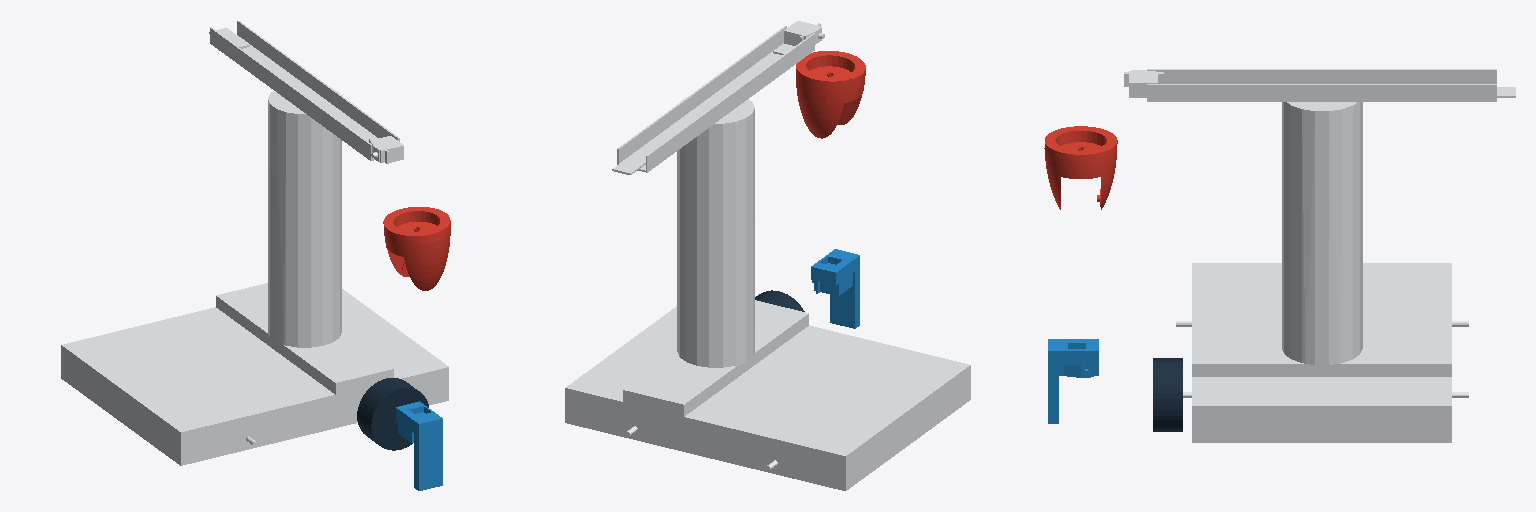
URDF robot description (ardop_description_02):
<?xml version="1.0" encoding="UTF-8"?>
<robot
	name="ardop_description_02">
	<link name="odom" />

	<link
		name="base_link">
		<inertial>
			<origin
				xyz="-0.05669211 -0.00059544 0.13127776"
				rpy="0 0 0" />
			<mass
				value="6" />
			<inertia
				ixx="0.000324"
				ixy="0.000000"
				ixz="-0.000054"
				iyy="0.000398"
				iyz="-0.018212"
				izz="0.000293" />
		</inertial>
		<visual>
			<origin
				xyz="0 0 0"
				rpy="0 0 0" />
			<geometry>
				<mesh
					filename="package://ardop_description_02/meshes/base_link.STL" />
			</geometry>
			<material
				name="cream">
				<color
					rgba="0.93 0.94 0.95 1" />
			</material>
		</visual>
		<collision>
			<origin
				xyz="0 0 0"
				rpy="0 0 0" />
			<geometry>
				<mesh
					filename="package://ardop_description_02/meshes/base_link.STL" />
			</geometry>
		</collision>
	</link>

	<joint
		name="odom_joint"
		type="fixed">
		<parent
			link="odom" />
		<child
			link="base_link" />
	</joint>

	<link
		name="wheel_front_left_link">
		<inertial>
			<origin
				xyz="0 0.02096815 0"
				rpy="0 0 0" />
			<mass
				value="0.4" />
			<inertia
				ixx="0"
				ixy="0"
				ixz="0"
				iyy="0"
				iyz="0"
				izz="0" />
		</inertial>
		<visual>
			<origin
				xyz="0 0 0"
				rpy="0 0 0" />
			<geometry>
				<mesh
					filename="package://ardop_description_02/meshes/wheel_front_left_link.STL" />
			</geometry>
			<material
				name="dark_blue">
				<color
					rgba="0.17 0.24 0.31 1" />
			</material>
		</visual>
		<collision>
			<origin
				xyz="0 0 0"
				rpy="0 0 0" />
			<geometry>
				<mesh
					filename="package://ardop_description_02/meshes/wheel_front_left_link.STL" />
			</geometry>
		</collision>
	</link>

	<joint
		name="wheel_front_left_joint"
		type="continuous">
		<origin
			xyz="0.03 0.1895 0.05"
			rpy="0 0 0" />
		<parent
			link="base_link" />
		<child
			link="wheel_front_left_link" />
		<axis
			xyz="0 1 0" />
		<limit
			effort="100"
			velocity="100" />
		<safety_controller
			k_velocity="10" />
	</joint>

	<link
		name="wheel_front_right_link">
		<inertial>
			<origin
				xyz="0 -0.02096815 0"
				rpy="0 0 0" />
			<mass
				value="0.4" />
			<inertia
				ixx="0"
				ixy="0"
				ixz="0"
				iyy="0"
				iyz="0"
				izz="0" />
		</inertial>
		<visual>
			<origin
				xyz="0 0 0"
				rpy="0 0 0" />
			<geometry>
				<mesh
					filename="package://ardop_description_02/meshes/wheel_front_right_link.STL" />
			</geometry>
			<material
				name="dark_blue">
				<color
					rgba="0.17 0.24 0.31 1" />
			</material>
		</visual>
		<collision>
			<origin
				xyz="0 0 0"
				rpy="0 0 0" />
			<geometry>
				<mesh
					filename="package://ardop_description_02/meshes/wheel_front_right_link.STL" />
			</geometry>
		</collision>
	</link>

	<joint
		name="wheel_front_right_joint"
		type="continuous">
		<origin
			xyz="0.03 -0.1895 0.05"
			rpy="0 0 0" />
		<parent
			link="base_link" />
		<child
			link="wheel_front_right_link" />
		<axis
			xyz="0 1 0" />
		<limit
			effort="100"
			velocity="100" />
		<safety_controller
			k_velocity="10" />
	</joint>

	<link
		name="wheel_back_left_link">
		<inertial>
			<origin
				xyz="0 0.02096815 0"
				rpy="0 0 0" />
			<mass
				value="0.4" />
			<inertia
				ixx="0"
				ixy="0"
				ixz="0"
				iyy="0"
				iyz="0"
				izz="0" />
		</inertial>
		<visual>
			<origin
				xyz="0 0 0"
				rpy="0 0 0" />
			<geometry>
				<mesh
					filename="package://ardop_description_02/meshes/wheel_back_left_link.STL" />
			</geometry>
			<material
				name="dark_blue">
				<color
					rgba="0.17 0.24 0.31 1" />
			</material>
		</visual>
		<collision>
			<origin
				xyz="0 0 0"
				rpy="0 0 0" />
			<geometry>
				<mesh
					filename="package://ardop_description_02/meshes/wheel_back_left_link.STL" />
			</geometry>
		</collision>
	</link>

	<joint
		name="wheel_back_left_joint"
		type="continuous">
		<origin
			xyz="-0.2 0.1895 0.05"
			rpy="0 0 0" />
		<parent
			link="base_link" />
		<child
			link="wheel_back_left_link" />
		<axis
			xyz="0 1 0" />
		<limit
			effort="100"
			velocity="100" />
		<safety_controller
			k_velocity="10" />
	</joint>

	<link
		name="wheel_back_right_link">
		<inertial>
			<origin
				xyz="0 -0.02096815 0"
				rpy="0 0 0" />
			<mass
				value="0.4" />
			<inertia
				ixx="0"
				ixy="0"
				ixz="0"
				iyy="0"
				iyz="0"
				izz="0" />
		</inertial>
		<visual>
			<origin
				xyz="0 0 0"
				rpy="0 0 0" />
			<geometry>
				<mesh
					filename="package://ardop_description_02/meshes/wheel_back_right_link.STL" />
			</geometry>
			<material
				name="dark_blue">
				<color
					rgba="0.17 0.24 0.31 1" />
			</material>
		</visual>
		<collision>
			<origin
				xyz="0 0 0"
				rpy="0 0 0" />
			<geometry>
				<mesh
					filename="package://ardop_description_02/meshes/wheel_back_right_link.STL" />
			</geometry>
		</collision>
	</link>

	<joint
		name="wheel_back_right_joint"
		type="continuous">
		<origin
			xyz="-0.2 -0.1895 0.05"
			rpy="0 0 0" />
		<parent
			link="base_link" />
		<child
			link="wheel_back_right_link" />
		<axis
			xyz="0 1 0" />
		<limit
			effort="100"
			velocity="100" />
		<safety_controller
			k_velocity="10" />
	</joint>

	<link
		name="shoulder_1_link">
		<inertial>
			<origin
				xyz="0.02786329 -0.03558158 0.00339449" 
				rpy="0 0 0" />
			<mass
				value="0.239718" />
			<inertia
				ixx="0.0"
				ixy="0.0"
				ixz="0.0"
				iyy="0.0"
				iyz="0.0"
				izz="0.0" />
		</inertial>
		<visual>
			<origin
				xyz="0 0 0"
				rpy="0 0 0" />
			<geometry>
				<mesh
					filename="package://ardop_description_02/meshes/shoulder_1_link.STL" />
			</geometry>
			<material
				name="red">
				<color
					rgba="0.91 0.3 0.24 1" />
			</material>
		</visual>
		<collision>
			<origin
				xyz="0 0 0"
				rpy="0 0 0" />
			<geometry>
				<mesh
					filename="package://ardop_description_02/meshes/shoulder_1_link.STL" />
			</geometry>
		</collision>
	</link>

	<joint
		name="shoulder_1_joint"
		type="revolute">
		<origin
			xyz="-0.0281 -0.25288 0.504"
			rpy="0 0 0" />
		<parent
			link="base_link" />
		<child
			link="shoulder_1_link" />
		<axis
			xyz="1 0 0" />
		<limit
			effort="30"
			velocity="3"
			lower="-1.5708"
			upper="1.5708" />
		<dynamics 
			damping="50" 
			friction="1" />
	</joint>

	<link
		name="upper_1_link">
		<inertial>
			<origin
				xyz="-0.00002823 -0.01138195 -0.05092308"
				rpy="0 0 0" />
			<mass
				value="0.158253" />
			<inertia
				ixx="0.0"
				ixy="0.0"
				ixz="0.0"
				iyy="0.0"
				iyz="0.0"
				izz="0.0" />
		</inertial>
		<visual>
			<origin
				xyz="0 0 0"
				rpy="0 0 0" />
			<geometry>
				<mesh
					filename="package://ardop_description_02/meshes/upper_1_link.STL" />
			</geometry>
			<material
				name="red">
				<color
					rgba="0.91 0.3 0.24 1" />
			</material>
		</visual>
		<collision>
			<origin
				xyz="0 0 0"
				rpy="0 0 0" />
			<geometry>
				<mesh
					filename="package://ardop_description_02/meshes/upper_1_link.STL" />
			</geometry>
		</collision>
	</link>

	<joint
		name="upper_1_joint"
		type="revolute">
		<origin
			xyz="0.027024 -0.075963 0.0044026"
			rpy="0 -0.034323 0" />
		<parent
			link="shoulder_1_link" />
		<child
			link="upper_1_link" />
		<axis
			xyz="0 1 0" />
		<limit
			effort="30"
			velocity="3"
			lower="-1.5708"
			upper="1.5708" />
		<dynamics 
			damping="50" 
			friction="1" />
	</joint>

	<link
		name="upper_2_link">
		<inertial>
			<origin
				xyz="0.00054343 -0.00051038 -0.01584260"
				rpy="0 0 0" />
			<mass
				value="0.076206" />
			<inertia
				ixx="0.0"
				ixy="0.0"
				ixz="-0.0"
				iyy="0.0"
				iyz="-0.0"
				izz="0.0" />
		</inertial>
		<visual>
			<origin
				xyz="0 0 0"
				rpy="0 0 0" />
			<geometry>
				<mesh
					filename="package://ardop_description_02/meshes/upper_2_link.STL" />
			</geometry>
			<material
				name="red">
				<color
					rgba="0.91 0.3 0.24 1" />
			</material>
		</visual>
		<collision>
			<origin
				xyz="0 0 0"
				rpy="0 0 0" />
			<geometry>
				<mesh
					filename="package://ardop_description_02/meshes/upper_2_link.STL" />
			</geometry>
		</collision>
	</link>

	<joint
		name="upper_2_joint"
		type="revolute">
		<origin
			xyz="9.3209E-05 0 -0.10405"
			rpy="0 0.034323 0" />
		<parent
			link="upper_1_link" />
		<child
			link="upper_2_link" />
		<axis
			xyz="-0.034316 0 0.99941" />
		<limit
			effort="30"
			velocity="3"
			lower="-1.5708"
			upper="1.5708" />
		<dynamics 
			damping="50" 
			friction="1" />
	</joint>

	<link
		name="lower_1_link">
		<inertial>
			<origin
				xyz="0 -0.03002602 -0.06443806"
				rpy="0 0 0" />
			<mass
				value="0.2241" />
			<inertia
				ixx="0.0"
				ixy="0"
				ixz="0"
				iyy="0.000001"
				iyz="-0.0"
				izz="0.0" />
		</inertial>
		<visual>
			<origin
				xyz="0 0 0"
				rpy="0 0 0" />
			<geometry>
				<mesh
					filename="package://ardop_description_02/meshes/lower_1_link.STL" />
			</geometry>
			<material
				name="red">
				<color
					rgba="0.91 0.3 0.24 1" />
			</material>
		</visual>
		<collision>
			<origin
				xyz="0 0 0"
				rpy="0 0 0" />
			<geometry>
				<mesh
					filename="package://ardop_description_02/meshes/lower_1_link.STL" />
			</geometry>
		</collision>
	</link>

	<joint
		name="lower_1_joint"
		type="revolute">
		<origin
			xyz="0.0024117 0.025054 -0.070238"
			rpy="0 0 0" />
		<parent
			link="upper_2_link" />
		<child
			link="lower_1_link" />
		<axis
			xyz="0 1 0" />
		<limit
			effort="30"
			velocity="3"
			lower="-1.5708"
			upper="1.5708" />
		<dynamics 
			damping="50" 
			friction="1" />
	</joint>

	<link
		name="lower_2_link">
		<inertial>
			<origin
				xyz="6.05965572437212E-05 -0.000116453399967853 -0.036900896689165"
				rpy="0 0 0" />
			<mass
				value="0.078" />
			<inertia
				ixx="0.000001"
				ixy="-0.0"
				ixz="0.0"
				iyy="0.000001"
				iyz="0.0"
				izz="0.0" />
		</inertial>
		<visual>
			<origin
				xyz="0 0 0"
				rpy="0 0 0" />
			<geometry>
				<mesh
					filename="package://ardop_description_02/meshes/lower_2_link.STL" />
			</geometry>
			<material
				name="red">
				<color
					rgba="0.91 0.3 0.24 1" />
			</material>
		</visual>
		<collision>
			<origin
				xyz="0 0 0"
				rpy="0 0 0" />
			<geometry>
				<mesh
					filename="package://ardop_description_02/meshes/lower_2_link.STL" />
			</geometry>
		</collision>
	</link>

	<joint
		name="lower_2_joint"
		type="revolute">
		<origin
			xyz="0 -0.030211 -0.12948"
			rpy="0 0 0" />
		<parent
			link="lower_1_link" />
		<child
			link="lower_2_link" />
		<axis
			xyz="0 0 1" />
		<limit
			effort="30"
			velocity="3"
			lower="-1.5708"
			upper="1.5708" />
		<dynamics 
			damping="50" 
			friction="1" />
	</joint>

	<link
		name="lower_3_link">
		<inertial>
			<origin
				xyz="-0.0057507 -0.016448 -0.036911"
				rpy="0 0 0" />
			<mass
				value="0.1" />
			<inertia
				ixx="0.0"
				ixy="0.0"
				ixz="0.0"
				iyy="0.0"
				iyz="-0.0"
				izz="0.0" />
		</inertial>
		<visual>
			<origin
				xyz="0 0 0"
				rpy="0 0 0" />
			<geometry>
				<mesh
					filename="package://ardop_description_02/meshes/lower_3_link.STL" />
			</geometry>
			<material
				name="blue">
				<color
					rgba="0.2 0.6 0.86 1" />
			</material>
		</visual>
		<collision>
			<origin
				xyz="0 0 0"
				rpy="0 0 0" />
			<geometry>
				<mesh
					filename="package://ardop_description_02/meshes/lower_3_link.STL" />
			</geometry>
		</collision>
	</link>

	<joint
		name="lower_3_joint"
		type="revolute">
		<origin
			xyz="0.0004864 0.0019612 -0.093575"
			rpy="0 0 0" />
		<parent
			link="lower_2_link" />
		<child
			link="lower_3_link" />
		<axis
			xyz="0 1 0" />
		<limit
			effort="30"
			velocity="3"
			lower="0"
			upper="0.01" />
		<dynamics 
			damping="50" 
			friction="1" />
	</joint>

	<link
		name="end_effector_link">
		<inertial>
			<origin
				xyz="-0.01777538 0.01874637 -0.04534066"
				rpy="0 0 0" />
			<mass
				value="0.010303" />
			<inertia
				ixx="0.0"
				ixy="0.0"
				ixz="-0.0"
				iyy="0.0"
				iyz="0.0"
				izz="0.0" />
		</inertial>
		<visual>
			<origin
				xyz="0 0 0"
				rpy="0 0 0" />
			<geometry>
				<mesh
					filename="package://ardop_description_02/meshes/end_effector_link.STL" />
			</geometry>
			<material
				name="blue">
				<color
					rgba="0.2 0.6 0.86 1" />
			</material>
		</visual>
		<collision>
			<origin
				xyz="0 0 0"
				rpy="0 0 0" />
			<geometry>
				<mesh
					filename="package://ardop_description_02/meshes/end_effector_link.STL" />
			</geometry>
		</collision>
	</link>

	<joint
		name="end_effector_joint"
		type="revolute">
		<origin
			xyz="0.020065 0.0095794 -0.03"
			rpy="0 0 0" />
		<parent
			link="lower_3_link" />
		<child
			link="end_effector_link" />
		<axis
			xyz="1 0 0" />
		<limit
			effort="30"
			velocity="3"
			lower="-0.6"
			upper="1.5708" />
		<dynamics 
			damping="50" 
			friction="1" />
	</joint>

	<gazebo 
		reference="odom">
	</gazebo>

	<gazebo reference="base_link">
		<mu1 value="0.7"/>
		<mu2 value="0.7"/>
		<kp value="10000000.0"/>
		<kd value="1.0"/>
		<material>Gazebo/White</material>
		<turnGravityOff>false</turnGravityOff>
	</gazebo>

	<gazebo reference="wheel_front_left_link">
		<mu1 value="0.7"/>
		<mu2 value="0.7"/>
		<kp value="10000000.0"/>
		<kd value="1.0"/>
		<fdir1 value="1 0 0"/>
		<material>Gazebo/Grey</material>
		<turnGravityOff>false</turnGravityOff>
	</gazebo>

	<gazebo reference="wheel_front_right_link">
		<mu1 value="0.7"/>
		<mu2 value="0.7"/>
		<kp value="10000000.0"/>
		<kd value="1.0"/>
		<fdir1 value="1 0 0"/>
		<material>Gazebo/Grey</material>
		<turnGravityOff>false</turnGravityOff>
	</gazebo>

	<gazebo reference="wheel_back_left_link">
		<mu1 value="0.7"/>
		<mu2 value="0.7"/>
		<kp value="10000000.0"/>
		<kd value="1.0"/>
		<fdir1 value="1 0 0"/>
		<material>Gazebo/Grey</material>
		<turnGravityOff>false</turnGravityOff>
	</gazebo>

	<gazebo reference="wheel_back_right_link">
		<mu1 value="0.7"/>
		<mu2 value="0.7"/>
		<kp value="10000000.0"/>
		<kd value="1.0"/>
		<fdir1 value="1 0 0"/>
		<material>Gazebo/Grey</material>
		<turnGravityOff>false</turnGravityOff>
	</gazebo>

	<gazebo>
		<plugin name="gazebo_ros_control" filename="libgazebo_ros_control.so">
			<robotNamespace>/ardop_model</robotNamespace>
			<robotSimType>gazebo_ros_control/DefaultRobotHWSim</robotSimType>
		</plugin>
	</gazebo>

	<transmission name="wheel_front_left_joint_trans">
		<type>transmission_interface/SimpleTransmission</type>
		<joint name="wheel_front_left_joint">
			<hardwareInterface>hardware_interface/EffortJointInterface</hardwareInterface>
		</joint>
		<actuator name="wheel_front_left_motor">
			<hardwareInterface>hardware_interface/EffortJointInterface</hardwareInterface>
			<mechanicalReduction>1</mechanicalReduction>
		</actuator>
	</transmission>

	<transmission name="wheel_front_right_joint_trans">
		<type>transmission_interface/SimpleTransmission</type>
		<joint name="wheel_front_right_joint">
			<hardwareInterface>hardware_interface/EffortJointInterface</hardwareInterface>
		</joint>
		<actuator name="wheel_front_right_motor">
			<hardwareInterface>hardware_interface/EffortJointInterface</hardwareInterface>
			<mechanicalReduction>1</mechanicalReduction>
		</actuator>
	</transmission>

	<transmission name="wheel_back_left_joint_trans">
		<type>transmission_interface/SimpleTransmission</type>
		<joint name="wheel_back_left_joint">
			<hardwareInterface>hardware_interface/EffortJointInterface</hardwareInterface>
		</joint>
		<actuator name="wheel_back_left_motor">
			<hardwareInterface>hardware_interface/EffortJointInterface</hardwareInterface>
			<mechanicalReduction>1</mechanicalReduction>
		</actuator>
	</transmission>

	<transmission name="wheel_back_right_joint_trans">
		<type>transmission_interface/SimpleTransmission</type>
		<joint name="wheel_back_right_joint">
			<hardwareInterface>hardware_interface/EffortJointInterface</hardwareInterface>
		</joint>
		<actuator name="wheel_back_right_motor">
			<hardwareInterface>hardware_interface/EffortJointInterface</hardwareInterface>
			<mechanicalReduction>1</mechanicalReduction>
		</actuator>
	</transmission>

	<transmission name="shoulder_1_joint_trans">
		<type>transmission_interface/SimpleTransmission</type>
		<joint name="shoulder_1_joint">
			<hardwareInterface>hardware_interface/EffortJointInterface</hardwareInterface>
		</joint>
		<actuator name="shoulder_1_servo">
			<hardwareInterface>hardware_interface/EffortJointInterface</hardwareInterface>
			<mechanicalReduction>1</mechanicalReduction>
		</actuator>
	</transmission>

	<transmission name="upper_1_joint_trans">
		<type>transmission_interface/SimpleTransmission</type>
		<joint name="upper_1_joint">
			<hardwareInterface>hardware_interface/EffortJointInterface</hardwareInterface>
		</joint>
		<actuator name="upper_1_servo">
			<hardwareInterface>hardware_interface/EffortJointInterface</hardwareInterface>
			<mechanicalReduction>1</mechanicalReduction>
		</actuator>
	</transmission>

	<transmission name="upper_2_joint_trans">
		<type>transmission_interface/SimpleTransmission</type>
		<joint name="upper_2_joint">
			<hardwareInterface>hardware_interface/EffortJointInterface</hardwareInterface>
		</joint>
		<actuator name="upper_2_servo">
			<hardwareInterface>hardware_interface/EffortJointInterface</hardwareInterface>
			<mechanicalReduction>1</mechanicalReduction>
		</actuator>
	</transmission>

	<transmission name="lower_1_joint_trans">
		<type>transmission_interface/SimpleTransmission</type>
		<joint name="lower_1_joint">
			<hardwareInterface>hardware_interface/EffortJointInterface</hardwareInterface>
		</joint>
		<actuator name="lower_1_servo">
			<hardwareInterface>hardware_interface/EffortJointInterface</hardwareInterface>
			<mechanicalReduction>1</mechanicalReduction>
		</actuator>
	</transmission>

	<transmission name="lower_2_joint_trans">
		<type>transmission_interface/SimpleTransmission</type>
		<joint name="lower_2_joint">
			<hardwareInterface>hardware_interface/EffortJointInterface</hardwareInterface>
		</joint>
		<actuator name="lower_2_servo">
			<hardwareInterface>hardware_interface/EffortJointInterface</hardwareInterface>
			<mechanicalReduction>1</mechanicalReduction>
		</actuator>
	</transmission>

	<transmission name="lower_3_joint_trans">
		<type>transmission_interface/SimpleTransmission</type>
		<joint name="lower_3_joint">
			<hardwareInterface>hardware_interface/EffortJointInterface</hardwareInterface>
		</joint>
		<actuator name="lower_3_servo">
			<hardwareInterface>hardware_interface/EffortJointInterface</hardwareInterface>
			<mechanicalReduction>1</mechanicalReduction>
		</actuator>
	</transmission>

	<transmission name="end_effector_joint_trans">
		<type>transmission_interface/SimpleTransmission</type>
		<joint name="end_effector_joint">
			<hardwareInterface>hardware_interface/EffortJointInterface</hardwareInterface>
		</joint>
		<actuator name="end_effector_servo">
			<hardwareInterface>hardware_interface/EffortJointInterface</hardwareInterface>
			<mechanicalReduction>1</mechanicalReduction>
		</actuator>
	</transmission>

	<gazebo reference="shoulder_1_link">
		<mu1 value="0.7"/>
		<mu2 value="0.7"/>
		<kp value="10000000.0"/>
		<kd value="1.0"/>
		<material>Gazebo/Red</material>
		<turnGravityOff>false</turnGravityOff>
	</gazebo>

	<gazebo reference="upper_1_link">
		<mu1 value="0.7"/>
		<mu2 value="0.7"/>
		<kp value="10000000.0"/>
		<kd value="1.0"/>
		<material>Gazebo/Red</material>
		<turnGravityOff>false</turnGravityOff>
	</gazebo>

	<gazebo reference="upper_2_link">
		<mu1 value="0.7"/>
		<mu2 value="0.7"/>
		<kp value="10000000.0"/>
		<kd value="1.0"/>
		<material>Gazebo/Red</material>
		<turnGravityOff>false</turnGravityOff>
	</gazebo>

	<gazebo reference="lower_1_link">
		<mu1 value="0.7"/>
		<mu2 value="0.7"/>
		<kp value="10000000.0"/>
		<kd value="1.0"/>
		<material>Gazebo/Red</material>
		<turnGravityOff>false</turnGravityOff>
	</gazebo>

	<gazebo reference="lower_2_link">
		<mu1 value="0.7"/>
		<mu2 value="0.7"/>
		<kp value="10000000.0"/>
		<kd value="1.0"/>
		<material>Gazebo/Red</material>
		<turnGravityOff>false</turnGravityOff>
	</gazebo>

	<gazebo reference="lower_3_link">
		<mu1 value="0.7"/>
		<mu2 value="0.7"/>
		<kp value="10000000.0"/>
		<kd value="1.0"/>
		<material>Gazebo/Blue</material>
		<turnGravityOff>false</turnGravityOff>
	</gazebo>

	<gazebo reference="end_effector_link">
		<mu1 value="0.7"/>
		<mu2 value="0.7"/>
		<kp value="10000000.0"/>
		<kd value="1.0"/>
		<material>Gazebo/Blue</material>
		<turnGravityOff>false</turnGravityOff>
	</gazebo>
	
</robot>

--- What the picture shows (computed from the rendered views, not written in the file) ---
The picture shows the robot from 3 angles, left to right: view 1: azimuth 30°, elevation 25°; view 2: azimuth 150°, elevation 25°; view 3: azimuth 270°, elevation 25°; orthographic projection.
Robot: ardop_description_02 — 13 links, 12 joints (7 revolute, 4 continuous, 1 fixed); root link odom; default pose: all joints at 0.
Links seen in each view (by area): view 1: base_link, upper_2_link, wheel_front_right_link, lower_3_link; view 2: base_link, upper_2_link, lower_3_link, wheel_front_right_link; view 3: base_link, upper_2_link, lower_3_link, wheel_front_right_link.
Link boxes in pixels (x1,y1,x2,y2): base_link: (61,21,448,465); upper_2_link: (383,207,450,290); wheel_front_right_link: (357,378,428,450); lower_3_link: (396,401,442,490); base_link: (565,21,970,490); upper_2_link: (796,51,865,138); lower_3_link: (811,249,859,328); wheel_front_right_link: (755,290,804,311); base_link: (1124,69,1515,442); upper_2_link: (1044,126,1117,209); lower_3_link: (1048,339,1098,423); wheel_front_right_link: (1153,358,1182,431).
Size in the robot's own frame: 0.46 by 0.6423 by 0.5138 metres.
4 mesh visuals loaded from 12 distinct referenced files (4 binary STL); not drawn: 8 (reference not matched to a file when rendering).